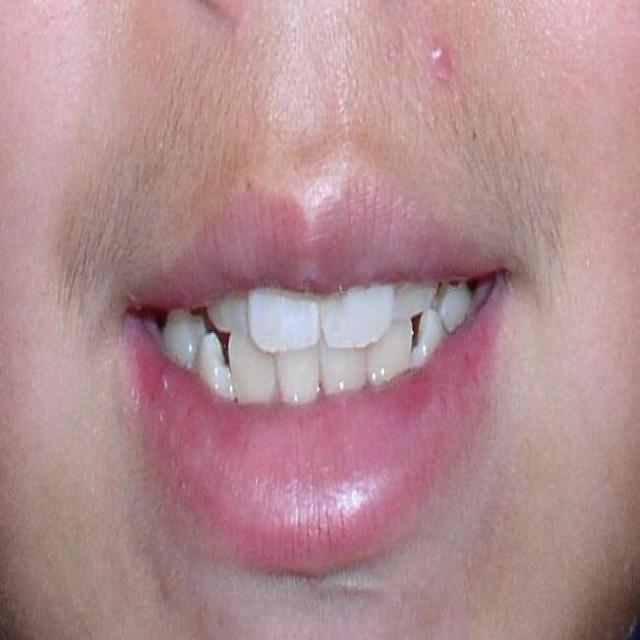tooth: (318, 283, 396, 347), (252, 288, 322, 344), (229, 337, 279, 401), (367, 316, 418, 378), (160, 310, 208, 375), (281, 344, 322, 408), (411, 308, 457, 364), (324, 331, 368, 387), (198, 334, 236, 398), (208, 295, 252, 338), (444, 282, 481, 332), (392, 284, 437, 318)
